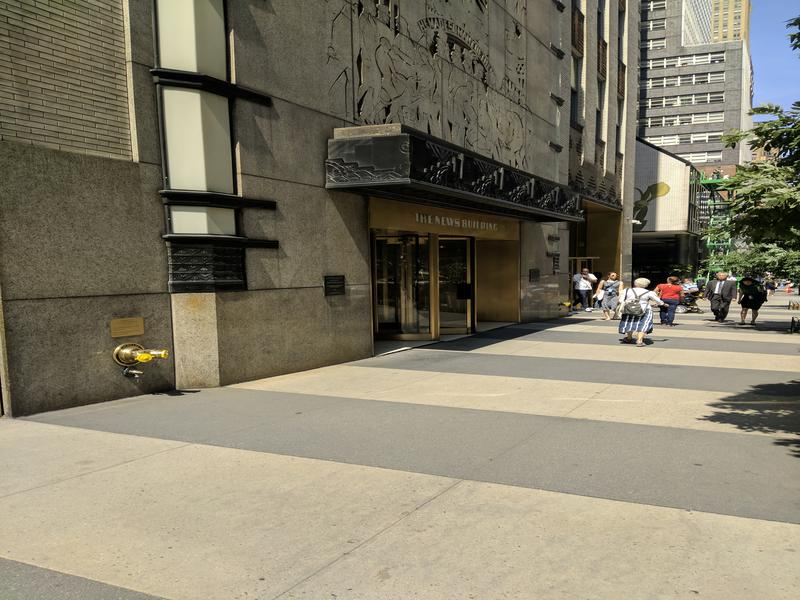revolving_door: (373, 225, 487, 346)
